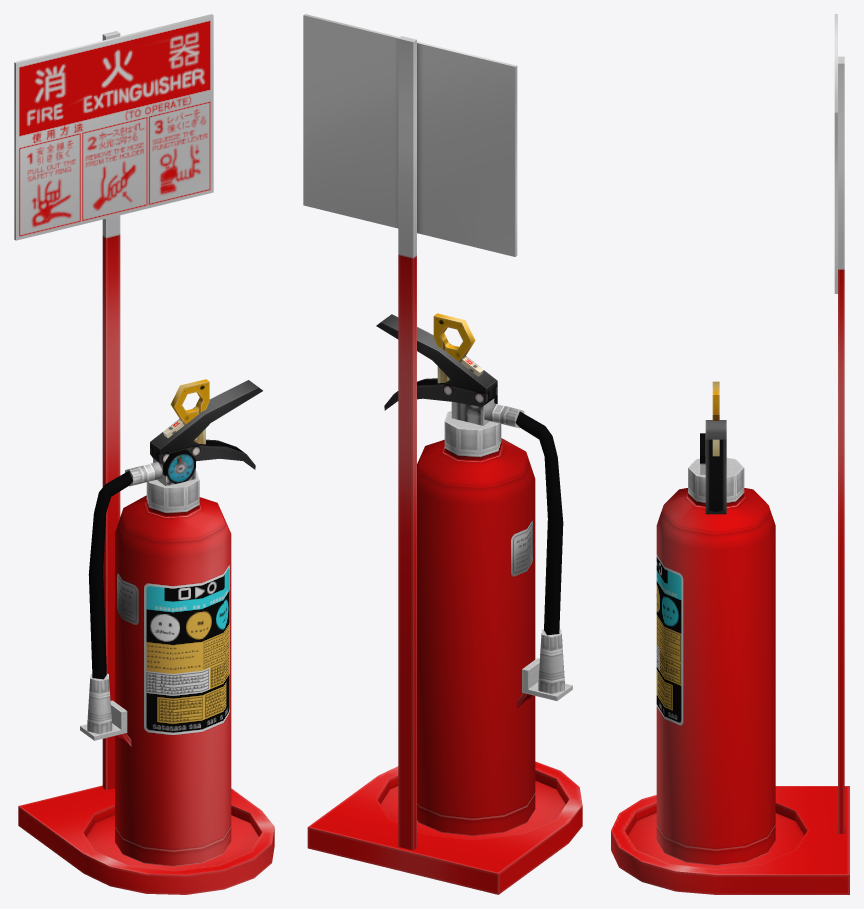
File: SHW_Fire_extinguisher_01_01.fbx
The picture shows the model from 3 angles, left to right: view 1: azimuth 30°, elevation 25°; view 2: azimuth 150°, elevation 25°; view 3: azimuth 270°, elevation 25°; orthographic projection. The views are drawn at different scales.
Visible parts, largest first — view 1: Fire_extinguisher_stand, Fire_extinguisher_01_01; view 2: Fire_extinguisher_stand, Fire_extinguisher_01_01; view 3: Fire_extinguisher_01_01, Fire_extinguisher_stand.
Part boxes in pixels (x1,y1,x2,y2): Fire_extinguisher_stand: (14,14,274,894); Fire_extinguisher_01_01: (80,379,262,866); Fire_extinguisher_stand: (303,14,582,894); Fire_extinguisher_01_01: (376,313,572,835); Fire_extinguisher_01_01: (656,381,775,865); Fire_extinguisher_stand: (611,14,849,894).
Size of the model in its own units: 21 by 78.5 by 21.5.
